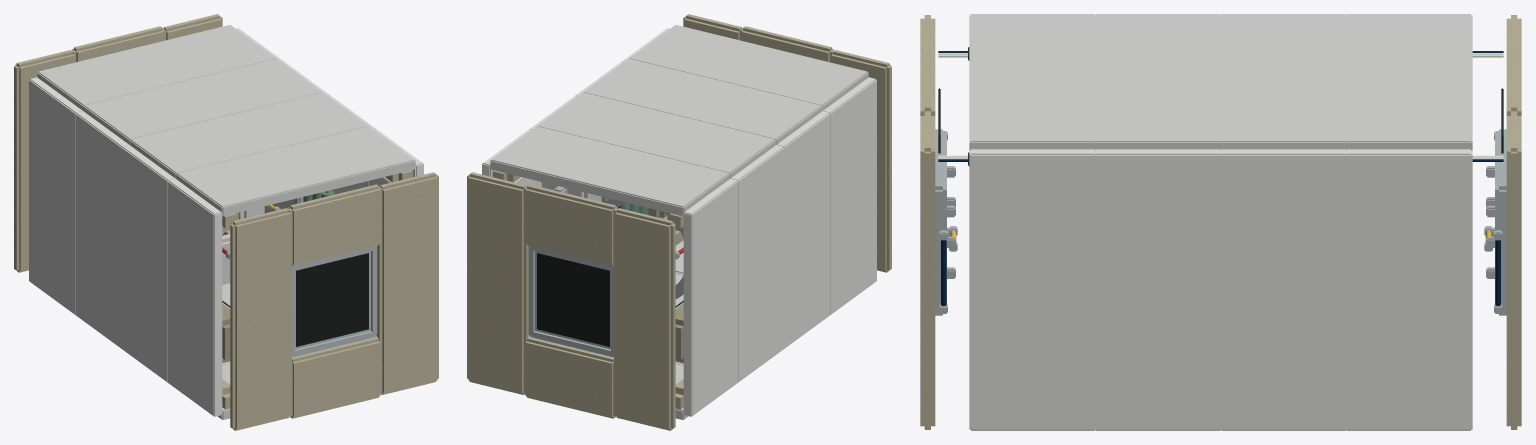
Rendered from quest_optimized.glb.
The picture shows the model from 3 angles, left to right: view 1: azimuth 30°, elevation 25°; view 2: azimuth 150°, elevation 25°; view 3: azimuth 270°, elevation 25°; orthographic projection. The views are drawn at different scales.
Parts seen in each view (by area): view 1: quest_interior; view 2: quest_interior; view 3: quest_interior.
Boxes of the visible parts, x1=… form: quest_interior: x1=14, y1=14, x2=438, y2=430; quest_interior: x1=467, y1=14, x2=891, y2=430; quest_interior: x1=920, y1=14, x2=1521, y2=430.
Size of the model in its own units: 3.09 by 3 by 5.64.
14 materials, 3 textured.
